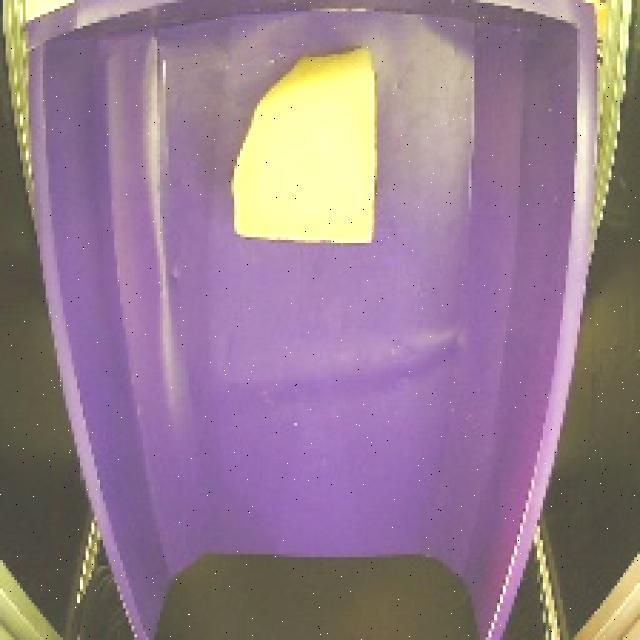potato: (221, 40, 391, 253)
